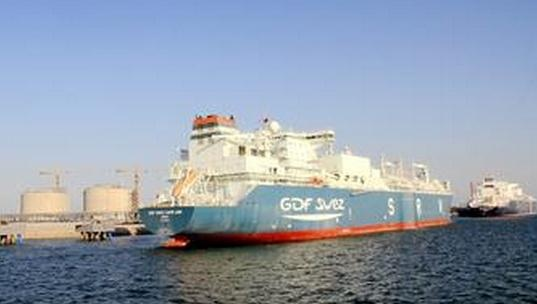Cargoship: (135, 112, 456, 255)
